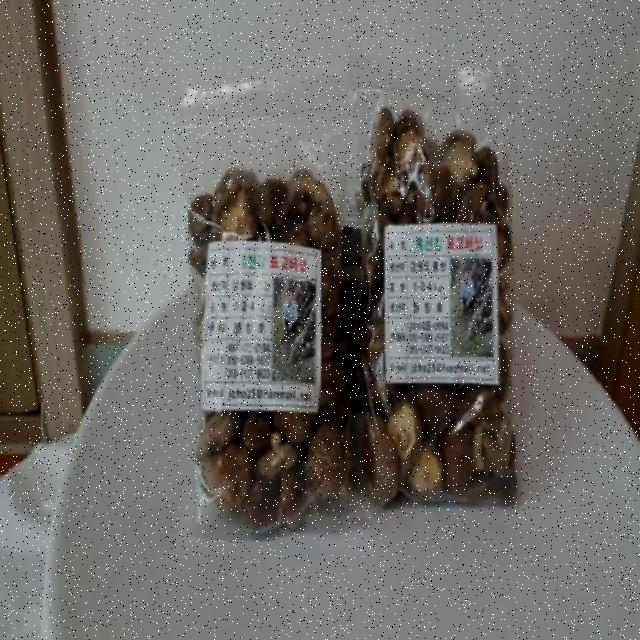Mushroom: (344, 46, 525, 529), (168, 83, 343, 532)
